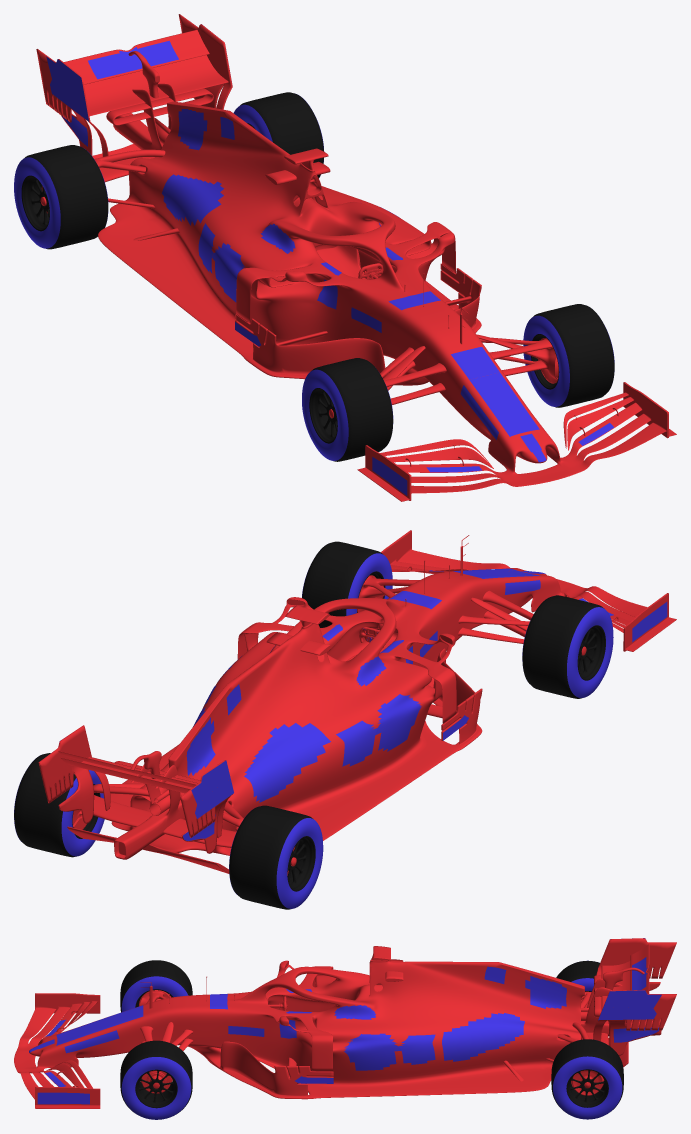
3 renders of one model, top to bottom at view 1: azimuth 30°, elevation 25°; view 2: azimuth 150°, elevation 25°; view 3: azimuth 270°, elevation 25°, orthographic. The views are drawn at different scales.
Parts seen in each view (by area): view 1: Main Body, Tire RL.001, Tire FL, Tire FК, Tire RL, Decal Ray Ban Right, Decal Tire FL.005, Decal Tire FL.007, Decal Tire FL.001, Decal Rear Wing, Rear Transmission, Rim FК (+7 smaller); view 2: Main Body, Tire RL.001, Tire FК, Decal Ray Ban Right, Tire RL, Tire FL, Rear Transmission, Decal Tire FL.007, Decal Tire FL.005, Decal Shell Right, Decal UPS Right, Rim FК (+6 smaller); view 3: Main Body, Decal Ray Ban Left, Decal Tire FL.002, Decal Tire FL, Decal Shell Left, Tire RL, Tire FL, Tire FК, Rim FL, Decal Number 5 Left, Decal Tire FL.004, Rim RL (+13 smaller).
Part boxes in pixels (x1=…): Main Body: x1=36, y1=14, x2=676, y2=501; Tire RL.001: x1=21, y1=145, x2=108, y2=249; Tire FL: x1=531, y1=304, x2=614, y2=407; Tire FК: x1=309, y1=358, x2=393, y2=461; Tire RL: x1=240, y1=92, x2=323, y2=178; Decal Ray Ban Right: x1=162, y1=174, x2=223, y2=225; Decal Tire FL.005: x1=302, y1=369, x2=348, y2=460; Decal Tire FL.007: x1=14, y1=157, x2=60, y2=248; Decal Tire FL.001: x1=523, y1=315, x2=569, y2=406; Decal Rear Wing: x1=88, y1=40, x2=178, y2=79; Rear Transmission: x1=40, y1=126, x2=253, y2=213; Rim FК: x1=309, y1=388, x2=337, y2=443; Main Body: x1=38, y1=530, x2=676, y2=873; Tire RL.001: x1=229, y1=805, x2=315, y2=909; Tire FК: x1=522, y1=595, x2=605, y2=698; Decal Ray Ban Right: x1=244, y1=723, x2=330, y2=802; Tire RL: x1=14, y1=753, x2=100, y2=857; Tire FL: x1=302, y1=541, x2=382, y2=627; Rear Transmission: x1=72, y1=783, x2=296, y2=875; Decal Tire FL.007: x1=276, y1=818, x2=323, y2=908; Decal Tire FL.005: x1=567, y1=607, x2=613, y2=697; Decal Shell Right: x1=375, y1=694, x2=421, y2=751; Decal UPS Right: x1=336, y1=720, x2=377, y2=766; Rim FК: x1=577, y1=625, x2=605, y2=680; Main Body: x1=14, y1=938, x2=676, y2=1108; Decal Ray Ban Left: x1=442, y1=1013, x2=524, y2=1061; Decal Tire FL.002: x1=553, y1=1056, x2=622, y2=1119; Decal Tire FL: x1=121, y1=1057, x2=191, y2=1119; Decal Shell Left: x1=344, y1=1033, x2=401, y2=1070; Tire RL: x1=551, y1=1039, x2=623, y2=1114; Tire FL: x1=120, y1=1040, x2=192, y2=1115; Tire FК: x1=120, y1=960, x2=192, y2=1012; Rim FL: x1=135, y1=1069, x2=177, y2=1108; Decal Number 5 Left: x1=525, y1=976, x2=566, y2=1008; Decal Tire FL.004: x1=121, y1=976, x2=188, y2=1011; Rim RL: x1=566, y1=1069, x2=608, y2=1107.
Size of the model in its own units: 171 by 95.9 by 478.
